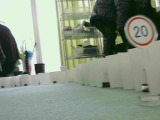speed_20: (122, 15, 157, 49)
